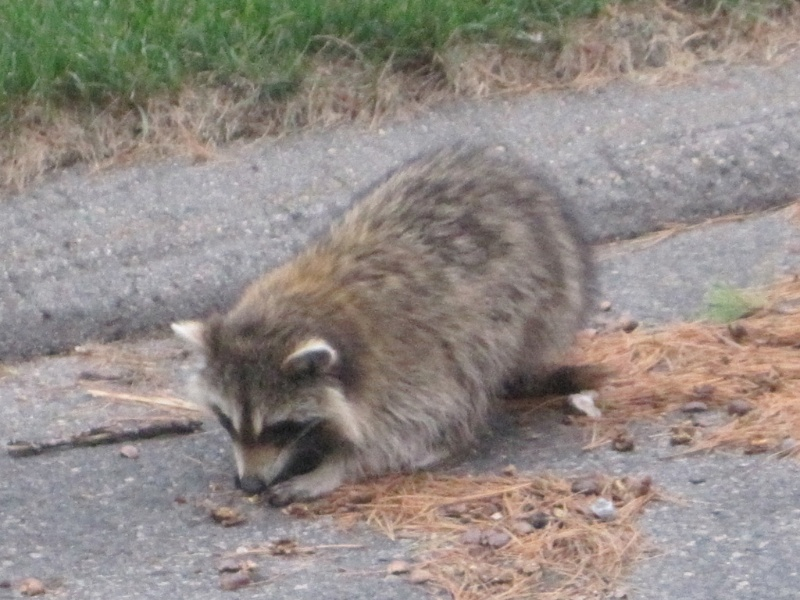raccoon: (166, 137, 600, 521)
